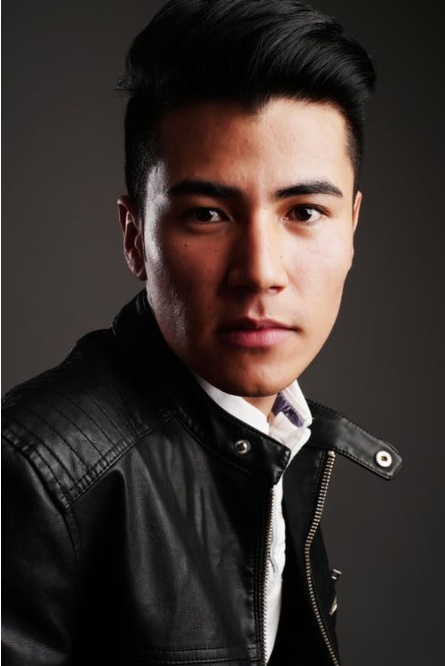face: (143, 100, 351, 391)
